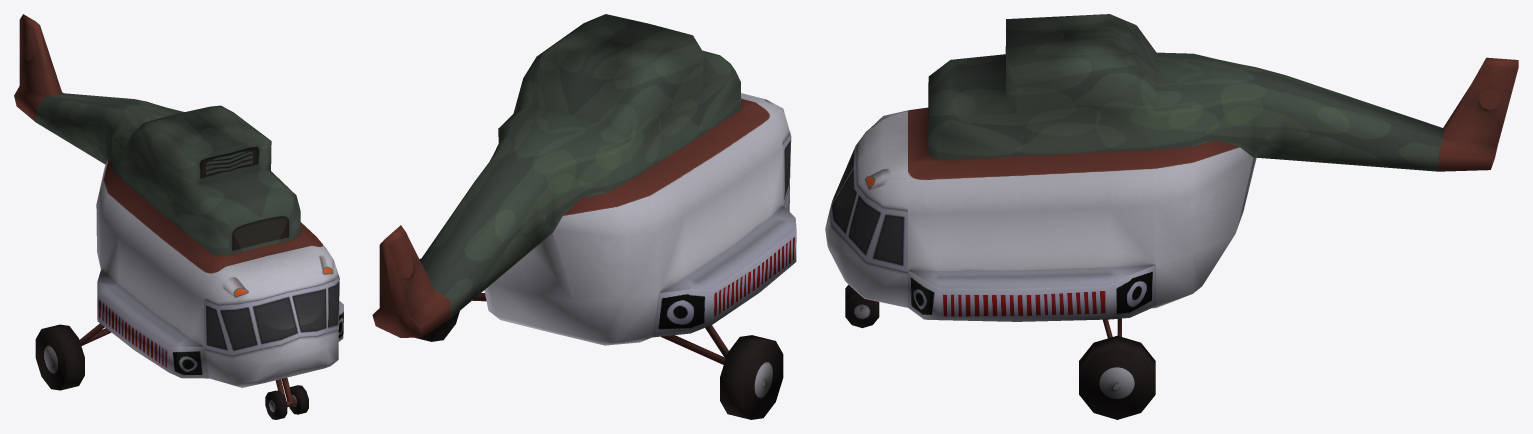
Rendered from chopper5.obj.
The picture shows the model from 3 angles, left to right: view 1: azimuth 30°, elevation 25°; view 2: azimuth 150°, elevation 25°; view 3: azimuth 270°, elevation 25°; orthographic projection. The views are drawn at different scales.
Visible parts, largest first — view 1: catoon_IM8; view 2: catoon_IM8; view 3: catoon_IM8.
Boxes of the visible parts, x1,y1,x2,y2 form: catoon_IM8: (14,14,343,419); catoon_IM8: (372,14,796,419); catoon_IM8: (825,14,1518,419).
Bounding box in the file's own units: 20.65 × 18.14 × 37.32.
Materials: 1 (1 with a texture image).
